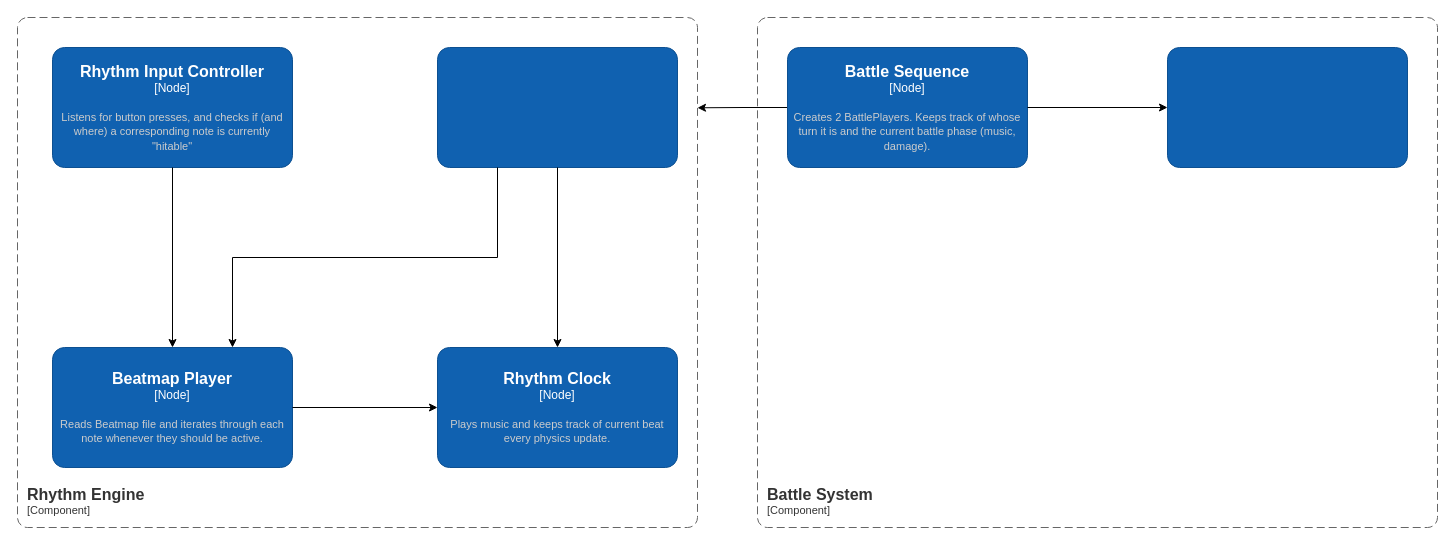
Image size: 1455x545. Some labels were removed from this diagram. The centre of each missing label's shape, as x and y in pixels:
BattlePlayer [Class] - MaxHP - CurrentHP: (x=1287, y=107)
UI [Node] Listens to backend components and spawns notes/measures that fall down: (x=557, y=107)
